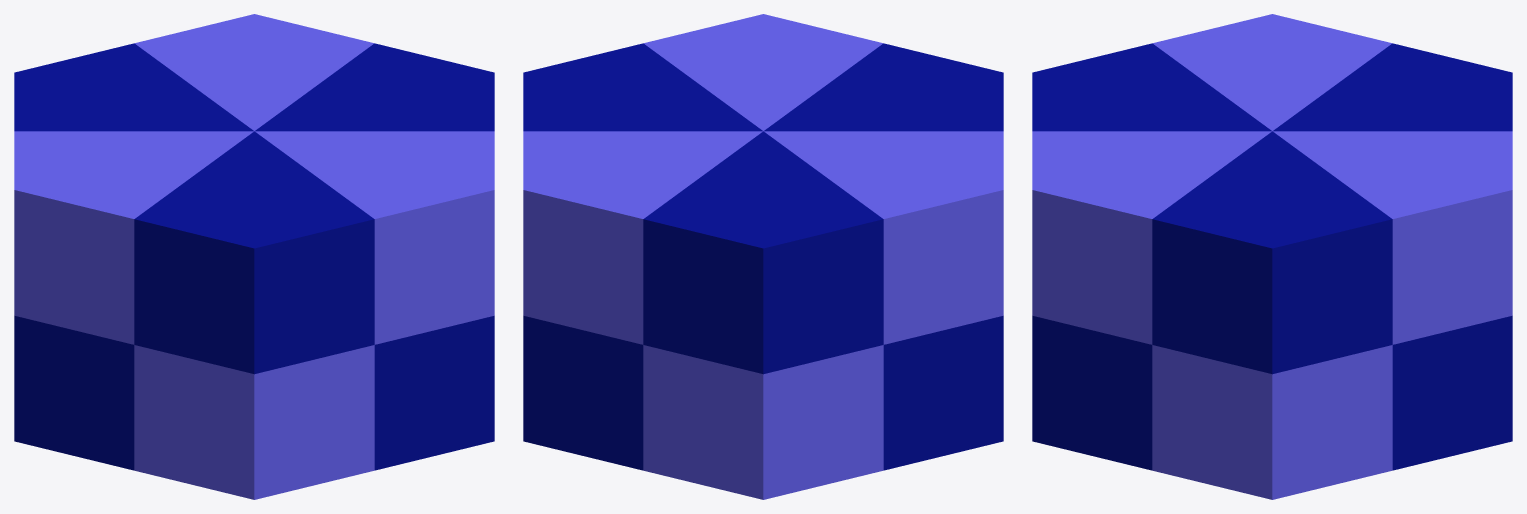
File: box.Hexagon6.fbx
The picture shows the model from 3 angles, left to right: view 1: azimuth 30°, elevation 25°; view 2: azimuth 150°, elevation 25°; view 3: azimuth 270°, elevation 25°; orthographic projection.
Parts seen in each view (by area): view 1: Cylinder; view 2: Cylinder; view 3: Cylinder.
Boxes of the visible parts, box(x1,y1,x2,y2) form: Cylinder: box(14, 14, 494, 499); Cylinder: box(523, 14, 1003, 499); Cylinder: box(1032, 14, 1512, 499).
Bounding box in the file's own units: 400 × 200 × 346.
